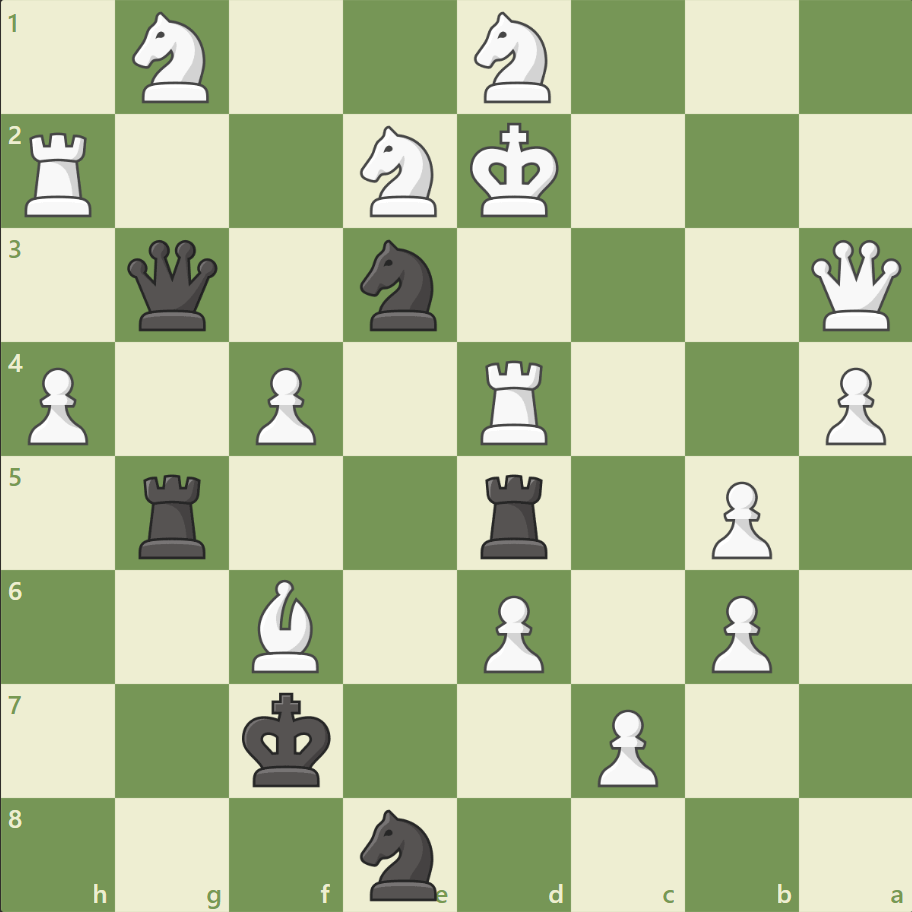B: (244, 574, 328, 676)
K: (465, 117, 565, 225)
N: (124, 7, 222, 110), (351, 121, 449, 223), (465, 7, 562, 110)
P: (701, 586, 776, 677), (474, 586, 549, 677), (701, 473, 776, 564), (247, 359, 322, 450), (20, 359, 95, 450), (588, 700, 662, 791), (815, 359, 889, 450)
Q: (805, 236, 904, 335)
R: (473, 352, 556, 449), (19, 125, 102, 222)
k: (238, 685, 338, 793)
n: (351, 234, 449, 337), (351, 802, 449, 904)
q: (124, 236, 223, 335)
r: (473, 466, 556, 563), (133, 466, 215, 563)
